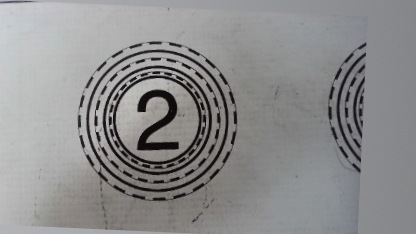2r: (71, 37, 243, 204)
